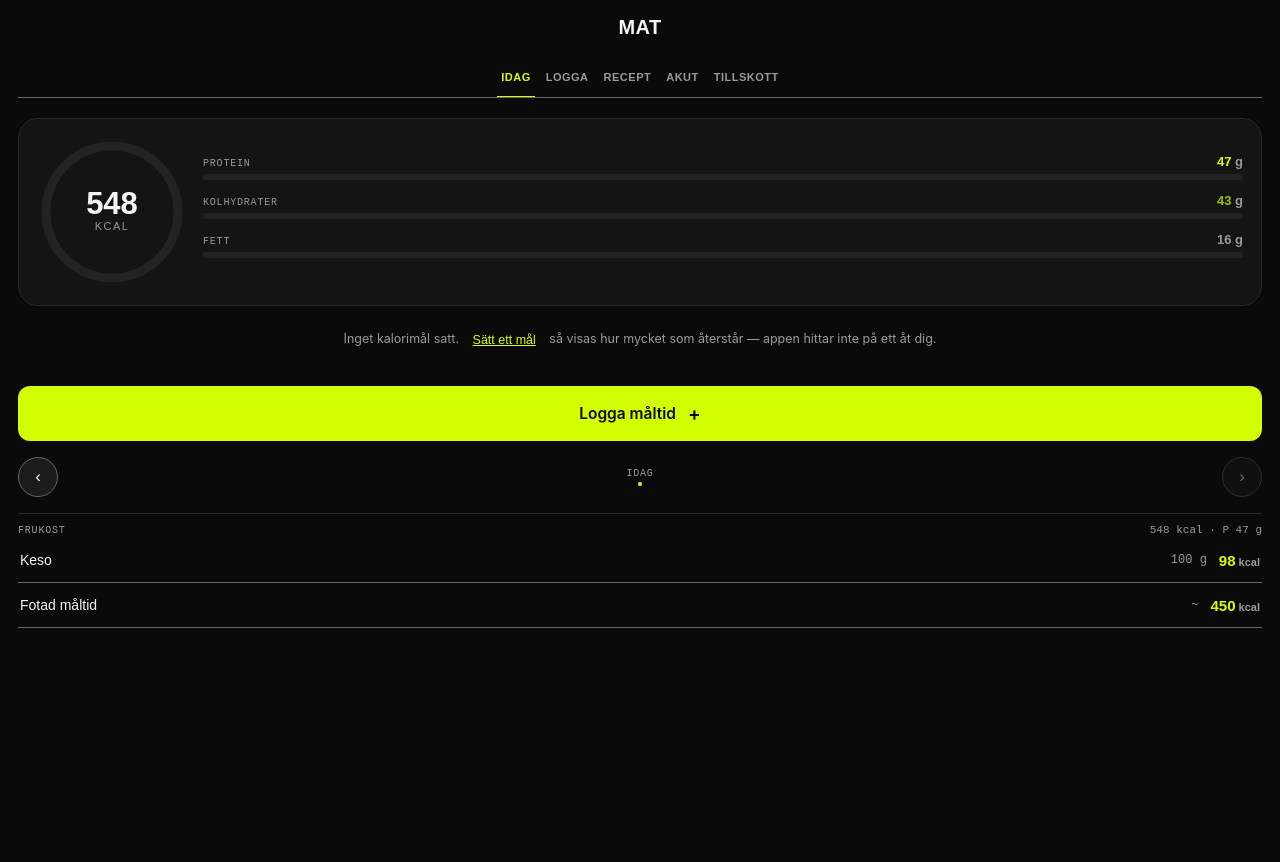
Test case: mängden går att ändra › en post utan livsmedel får ett kcal-fält i stället för gram
Click the button "Fotad måltid ~ 450 kcal": (59, 605) [18,583,1262,627]
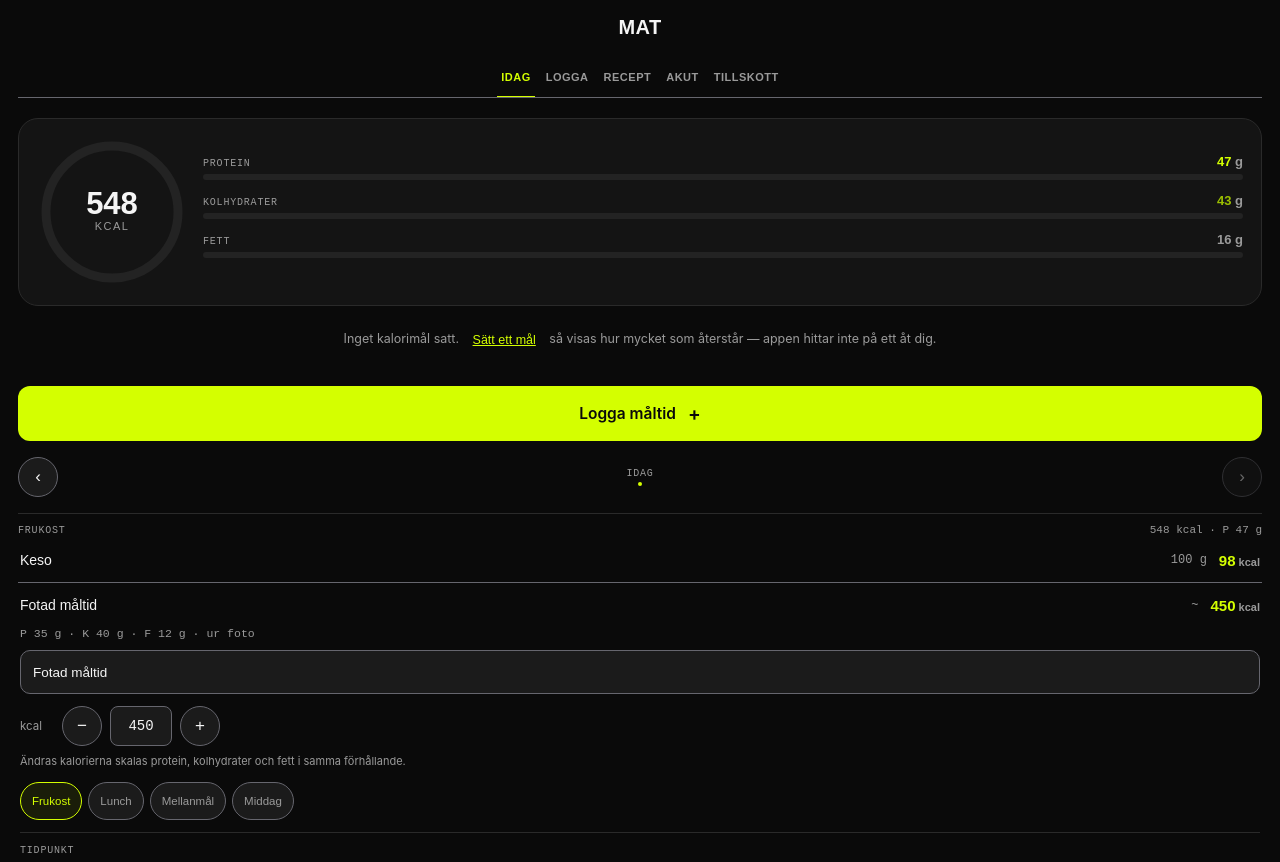
Now the field named "Kalorier" is shown, box [110,706,172,746]
